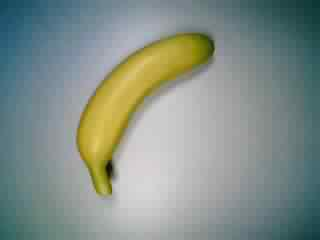banana: (71, 28, 220, 200)
